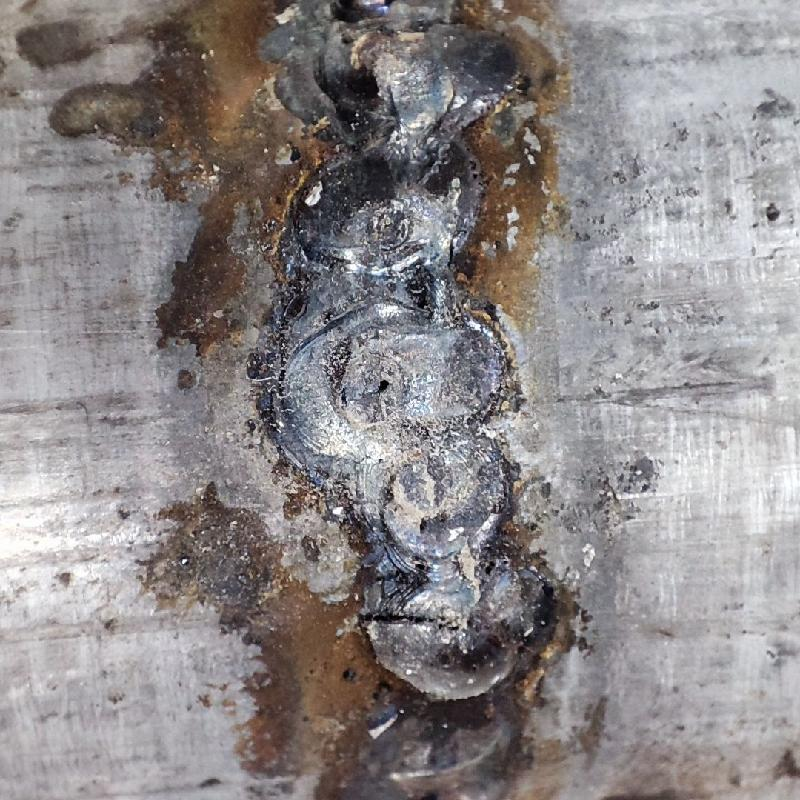Not_fully_soldered: (276, 275, 513, 689)
Surface_pores: (343, 360, 413, 418)
wrong_size: (271, 0, 481, 270)
